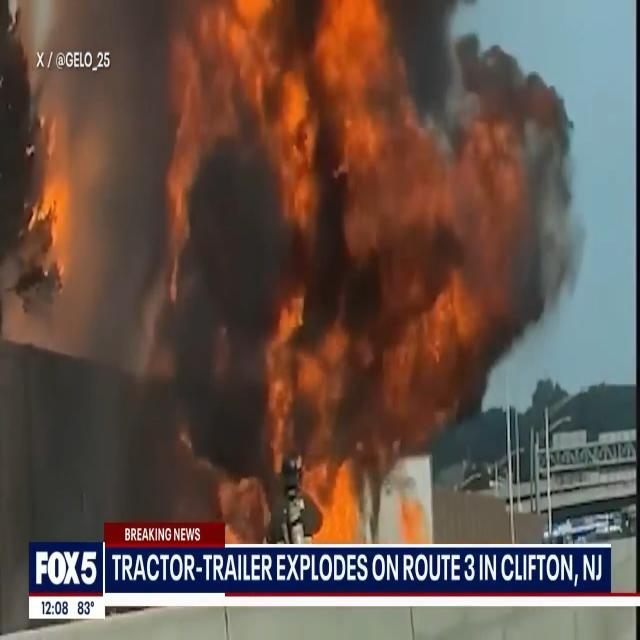fire: (111, 0, 486, 548)
